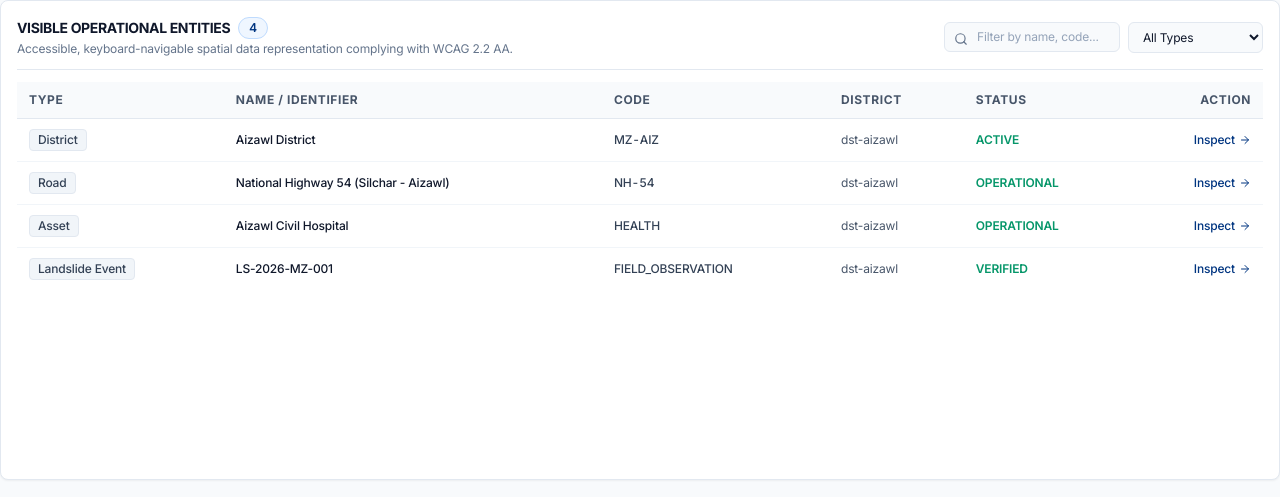
Test: Sentinel NER — Stage 4 Geospatial UI Unit Tests › renders AccessibleEntityList with keyboard accessibility and keyword filtering
Check: the text "VISIBLE OPERATIONAL ENTITIES" is shown, box top-left (17, 18), bottom-right (230, 38)
Check: the text "Aizawl District" is shown, box top-left (224, 118), bottom-right (602, 162)
Press Enter in the button "Aizawl Civil Hospital", box top-left (17, 204), bottom-right (1263, 248)
Filter by keyword
In the field named "Filter entities by keyword": [1032, 37] box top-left (944, 22), bottom-right (1120, 52), type "Civil Hospital"
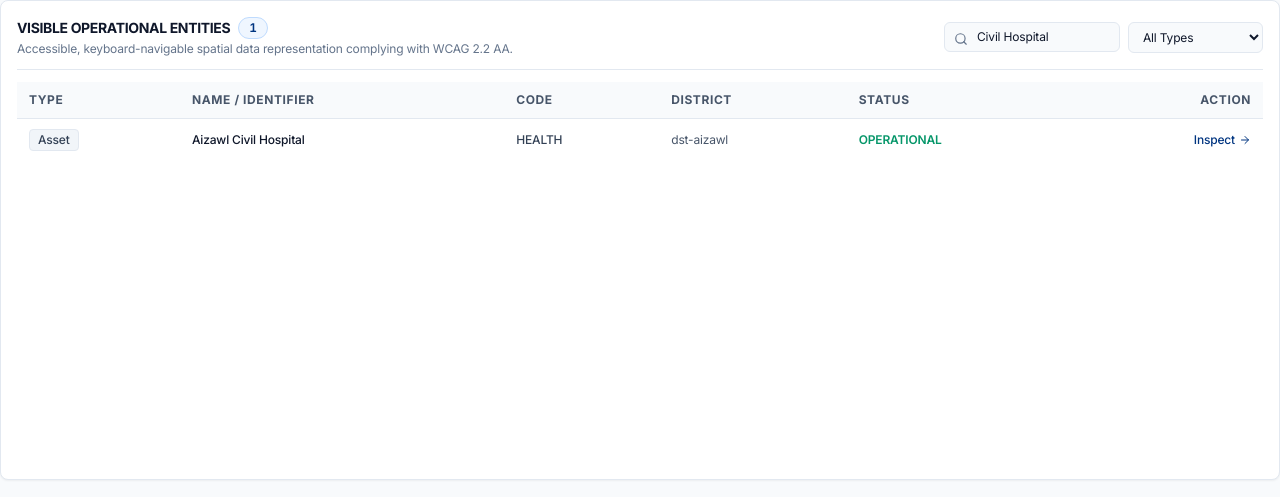
Check: the text "Aizawl Civil Hospital" is shown, box top-left (180, 118), bottom-right (504, 161)
Check: the button "LS-2026-MZ-001" is gone
